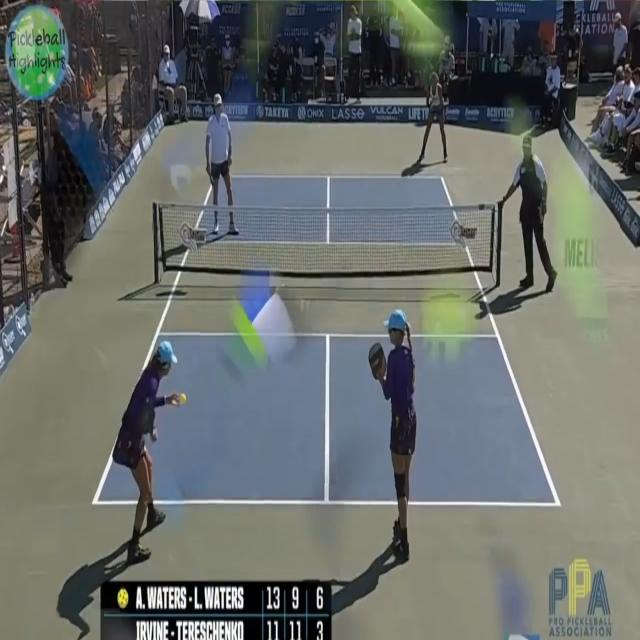ball: (174, 386, 192, 410)
